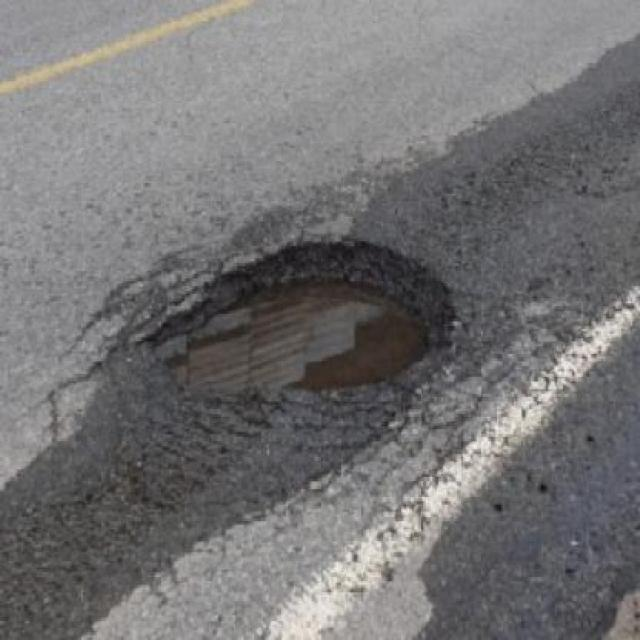Pothole: (140, 232, 467, 412)
